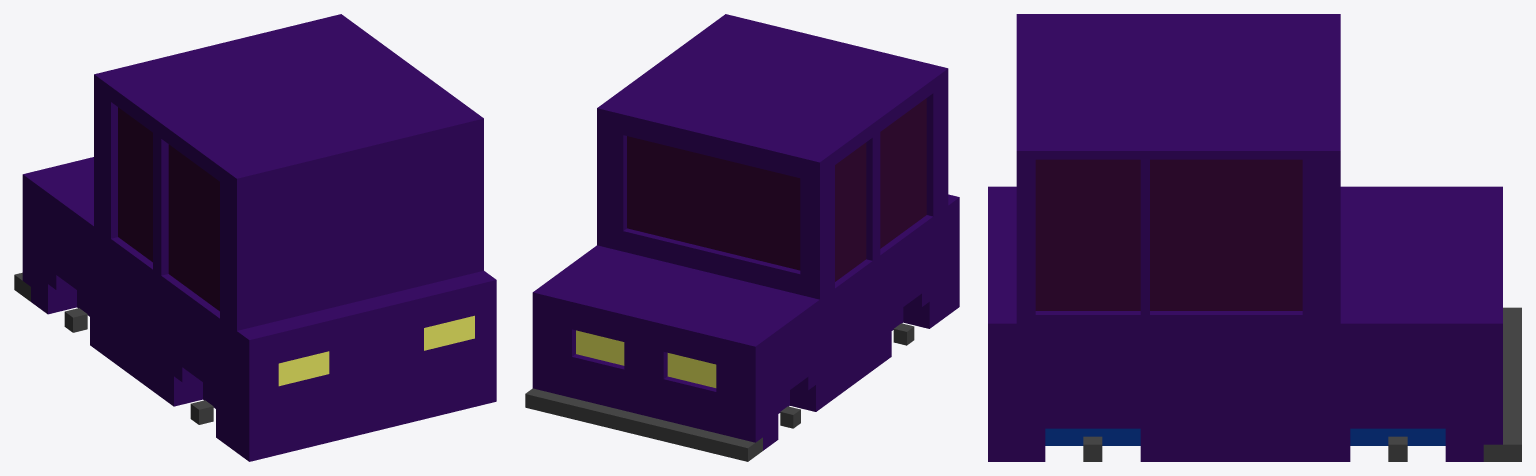
The model's file is Auto2.obj.
3 renders of one model, left to right at view 1: azimuth 30°, elevation 25°; view 2: azimuth 150°, elevation 25°; view 3: azimuth 270°, elevation 25°, orthographic. The views are drawn at different scales.
Bounding box in the file's own units: 3.4 × 3.6 × 5.6.
1 material, 1 textured.
